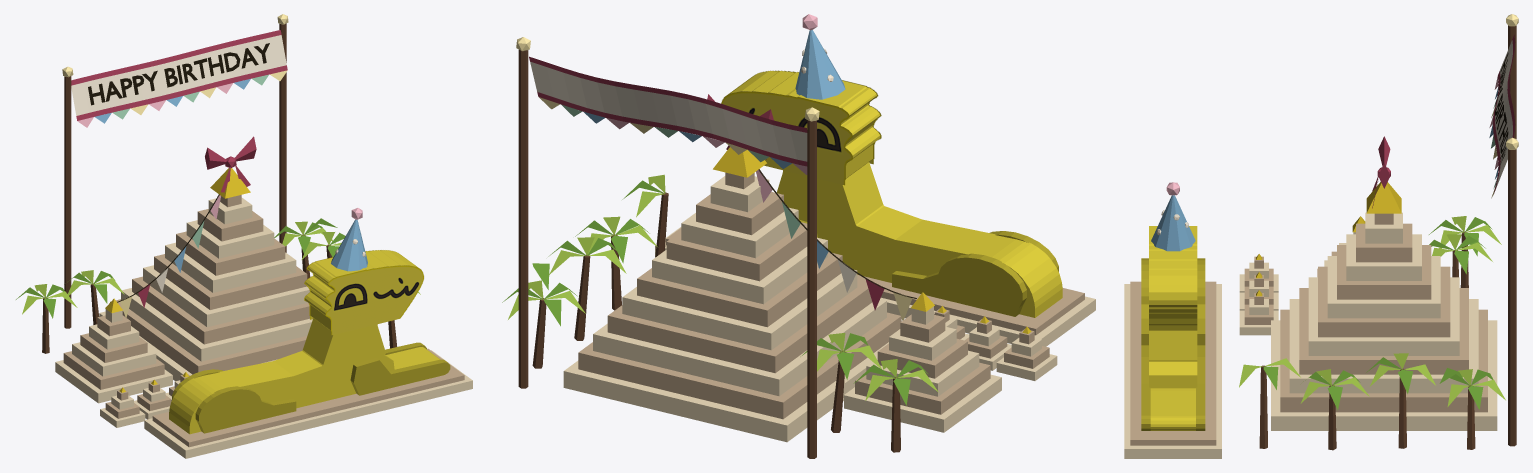
Rendered from garden_birthday.glb.
3 renders of one model, left to right at view 1: azimuth 30°, elevation 25°; view 2: azimuth 150°, elevation 25°; view 3: azimuth 270°, elevation 25°, orthographic. The views are drawn at different scales.
Visible parts, largest first — view 1: gdn_pyramids, gdn_sphinx, gdn_banner, gdn_sphinx_plinth, gdn_sphinx_face, gdn_palms, gdn_birthday; view 2: gdn_pyramids, gdn_sphinx, gdn_banner, gdn_palms, gdn_sphinx_face, gdn_sphinx_plinth, gdn_birthday; view 3: gdn_pyramids, gdn_sphinx, gdn_sphinx_plinth, gdn_palms, gdn_banner, gdn_birthday.
Part boxes in pixels (x1=…): gdn_pyramids: x1=55, y1=168, x2=312, y2=427; gdn_sphinx: x1=169, y1=250, x2=450, y2=434; gdn_banner: x1=62, y1=14, x2=288, y2=328; gdn_sphinx_plinth: x1=144, y1=348, x2=472, y2=458; gdn_sphinx_face: x1=304, y1=250, x2=423, y2=335; gdn_palms: x1=16, y1=218, x2=420, y2=353; gdn_birthday: x1=117, y1=136, x2=367, y2=317; gdn_pyramids: x1=563, y1=147, x2=1057, y2=442; gdn_sphinx: x1=723, y1=71, x2=1062, y2=317; gdn_banner: x1=516, y1=37, x2=819, y2=458; gdn_palms: x1=502, y1=174, x2=938, y2=452; gdn_sphinx_face: x1=721, y1=70, x2=881, y2=185; gdn_sphinx_plinth: x1=655, y1=227, x2=1095, y2=346; gdn_birthday: x1=707, y1=14, x2=916, y2=320; gdn_pyramids: x1=1239, y1=182, x2=1497, y2=430; gdn_sphinx: x1=1141, y1=226, x2=1205, y2=430; gdn_sphinx_plinth: x1=1124, y1=281, x2=1221, y2=458; gdn_palms: x1=1239, y1=216, x2=1505, y2=450; gdn_banner: x1=1489, y1=14, x2=1518, y2=446; gdn_birthday: x1=1151, y1=136, x2=1390, y2=251.
Size of the model in its own units: 3.6 by 2.78 by 3.23.
Materials: 16 (1 with a texture image).
